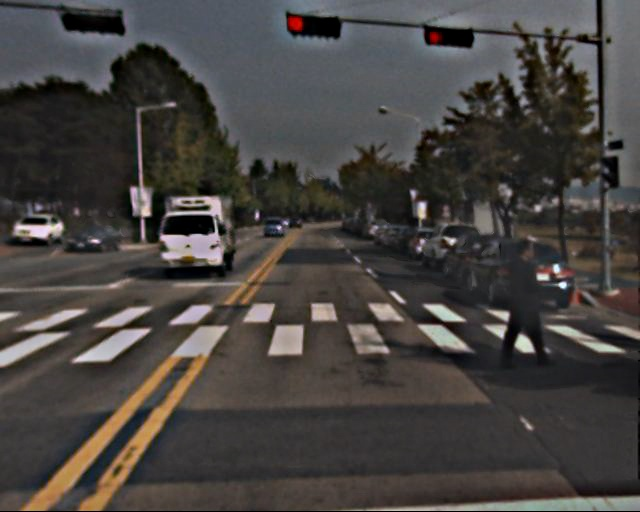person: (495, 236, 552, 375)
